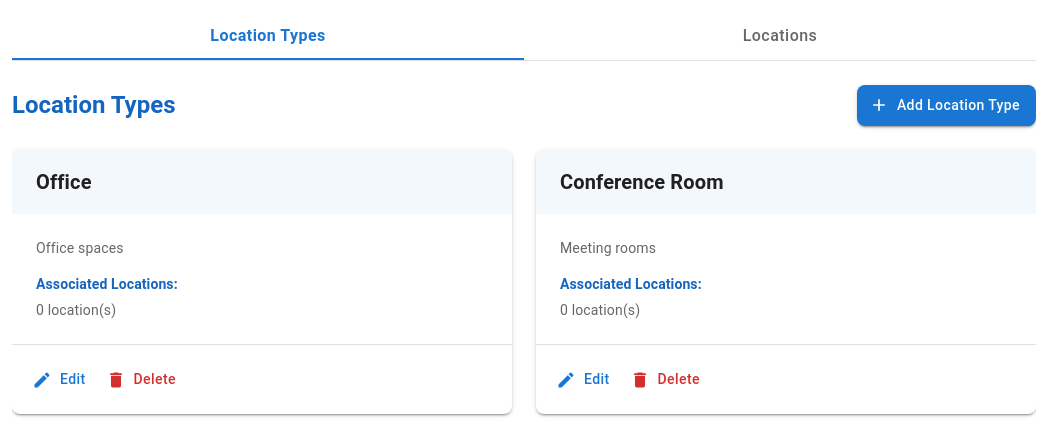
Test case: LocationManagement › displays empty state when no locations
// Switch to Locations tab
Step 1. Click the tab "Locations" → (780, 36), box [524,12,1036,60]
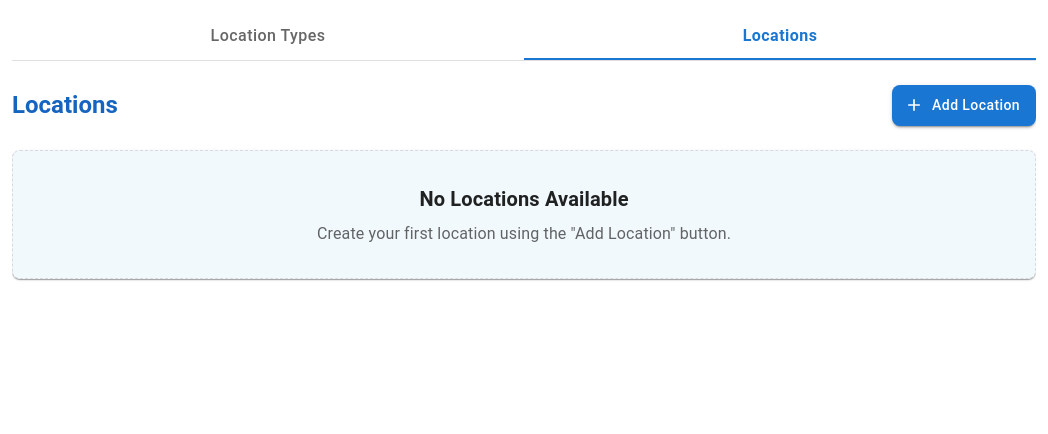
Now the heading "No Locations Available" is shown, box [419,186,629,210]
